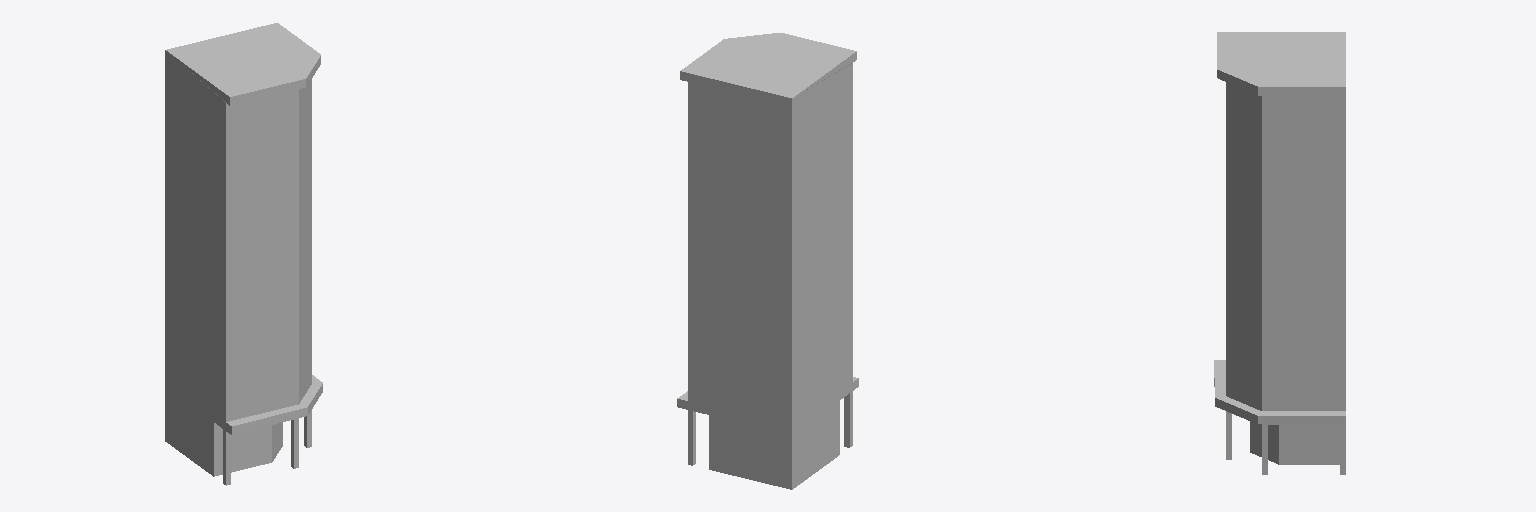
Rendered from skyscraper11.obj.
3 renders of one model, left to right at view 1: azimuth 30°, elevation 25°; view 2: azimuth 150°, elevation 25°; view 3: azimuth 270°, elevation 25°, orthographic.
Parts seen in each view (by area): view 1: skyscraper_11; view 2: skyscraper_11; view 3: skyscraper_11.
Part boxes in pixels (left/top/right/bottom): skyscraper_11: left=165, top=23, right=322, bottom=485; skyscraper_11: left=677, top=33, right=858, bottom=489; skyscraper_11: left=1214, top=32, right=1345, bottom=474.
Bounding box in the file's own units: 243 × 790 × 242.